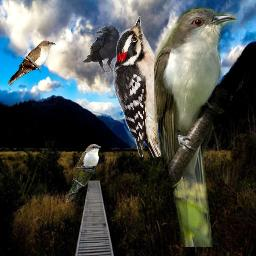Crow: (83, 25, 125, 76)
Cuckoo: (154, 0, 237, 247), (8, 40, 56, 86), (65, 143, 101, 202)
Woodpecker: (113, 16, 179, 157)
